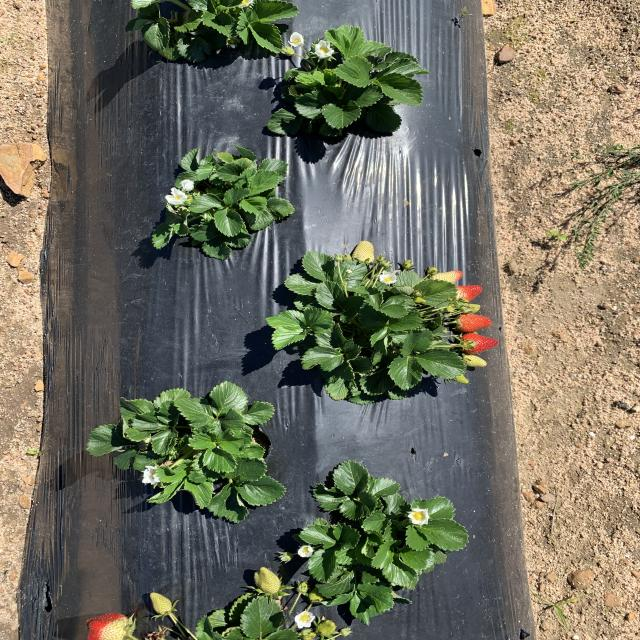unripe: (460, 334, 500, 354), (456, 314, 494, 332)
